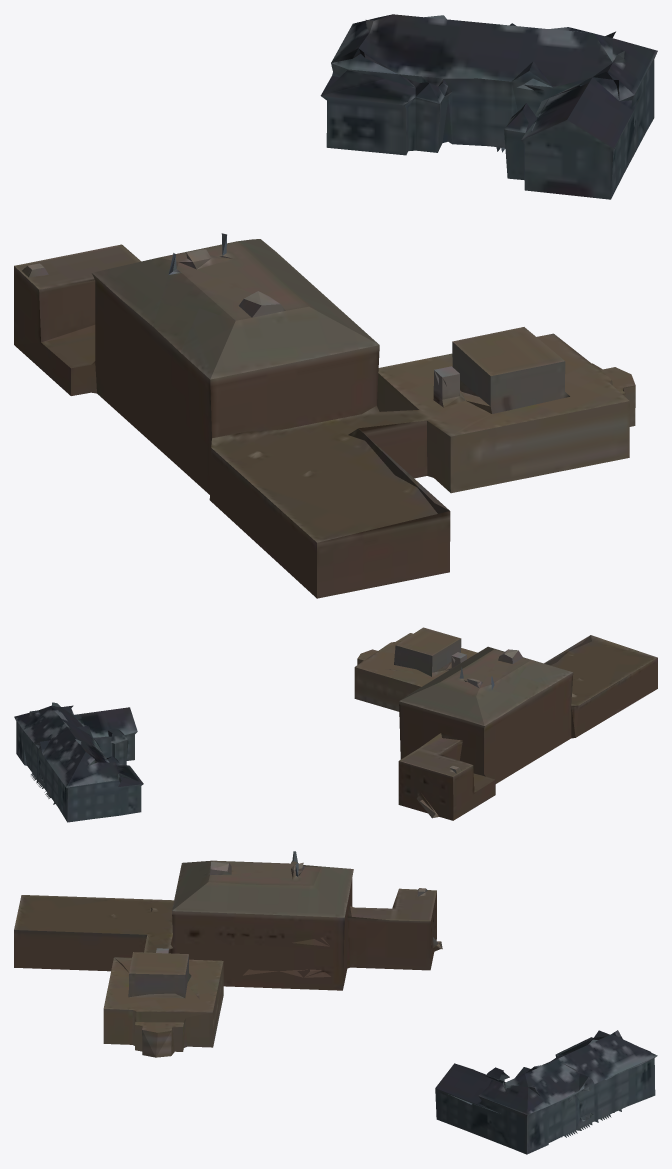
The model's file is t_1_-3.coat.glb.
3 renders of one model, top to bottom at view 1: azimuth 30°, elevation 25°; view 2: azimuth 150°, elevation 25°; view 3: azimuth 270°, elevation 25°, orthographic. The views are drawn at different scales.
Visible parts, largest first — view 1: far; view 2: far; view 3: far.
Part boxes in pixels (box(x1,y1,x2,y2)): far: box(14, 14, 657, 598); far: box(14, 627, 657, 822); far: box(14, 851, 657, 1154).
Bounding box in the file's own units: 127 × 27.75 × 152.
Materials: 1 (1 with a texture image).
